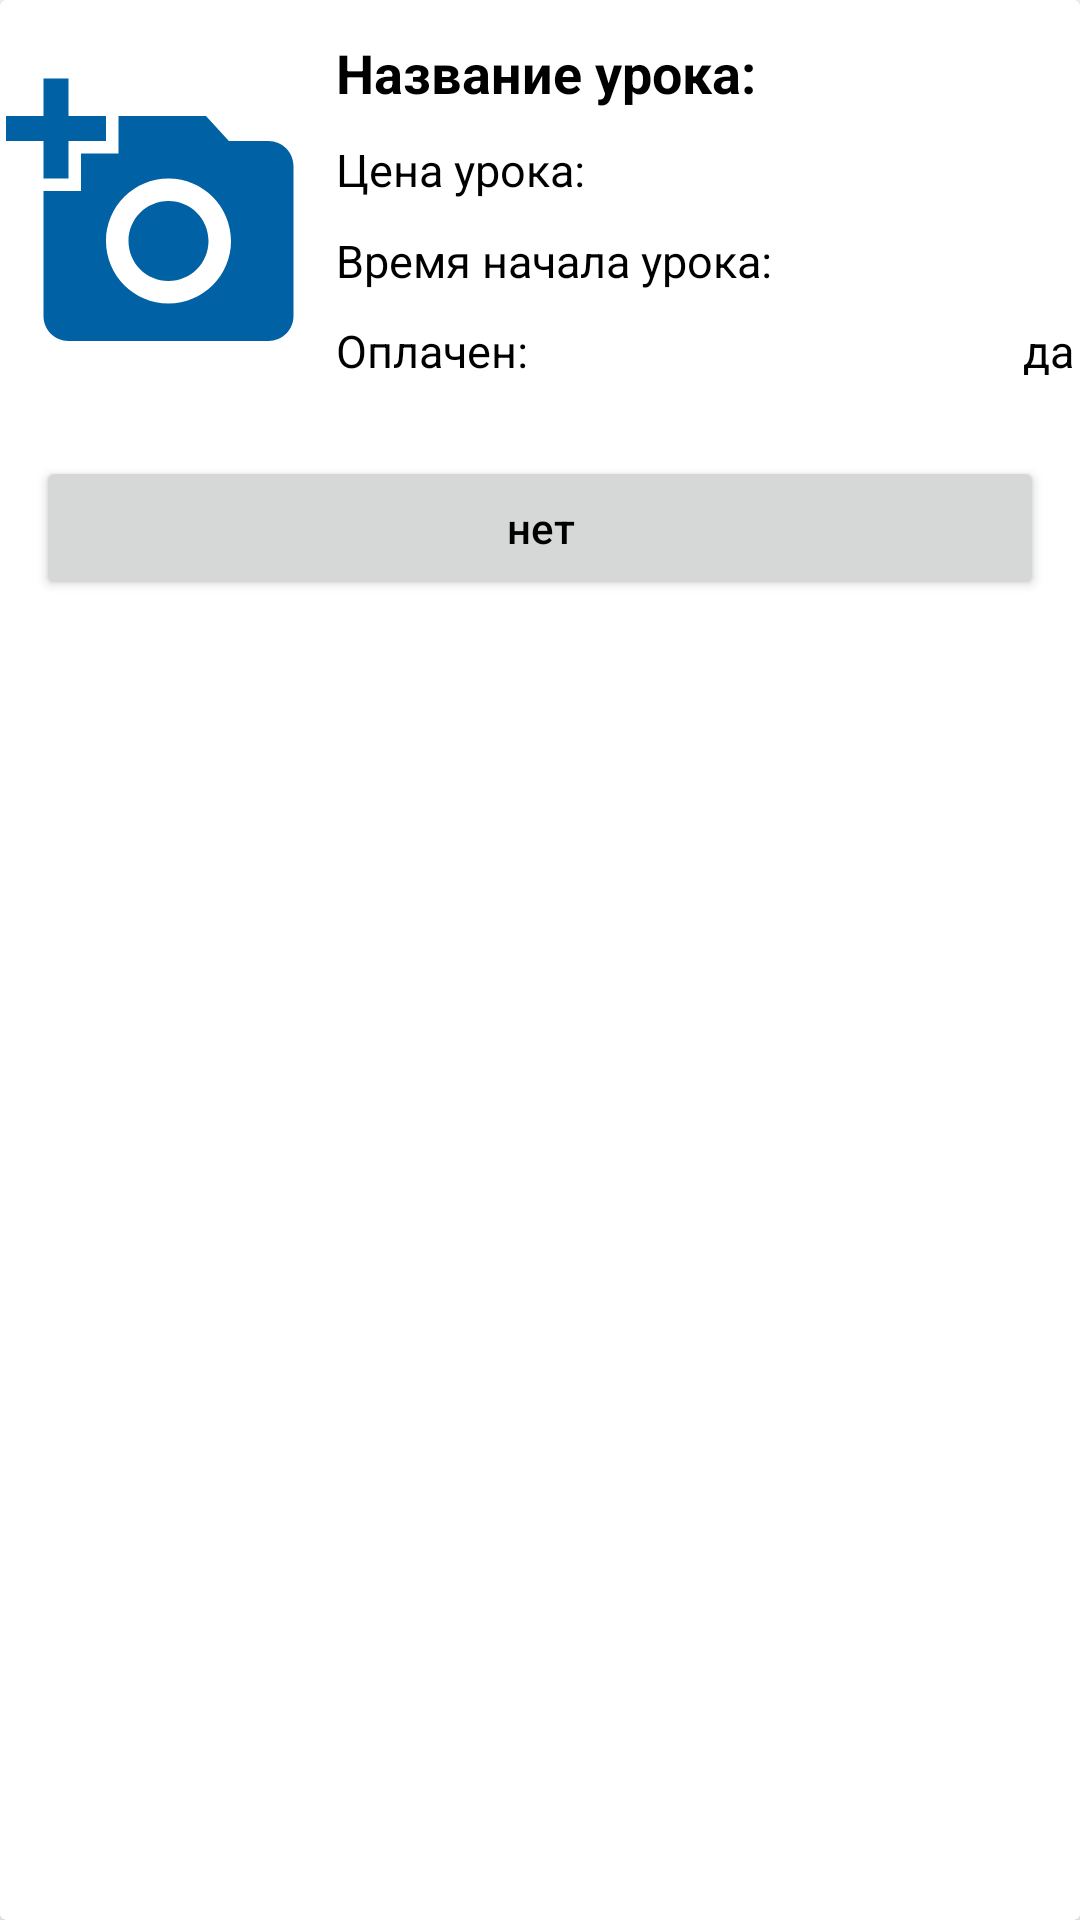

Where to tap for icons on this 1080px×1920px app screen, as [x,y]:
add photo: [150,209]
